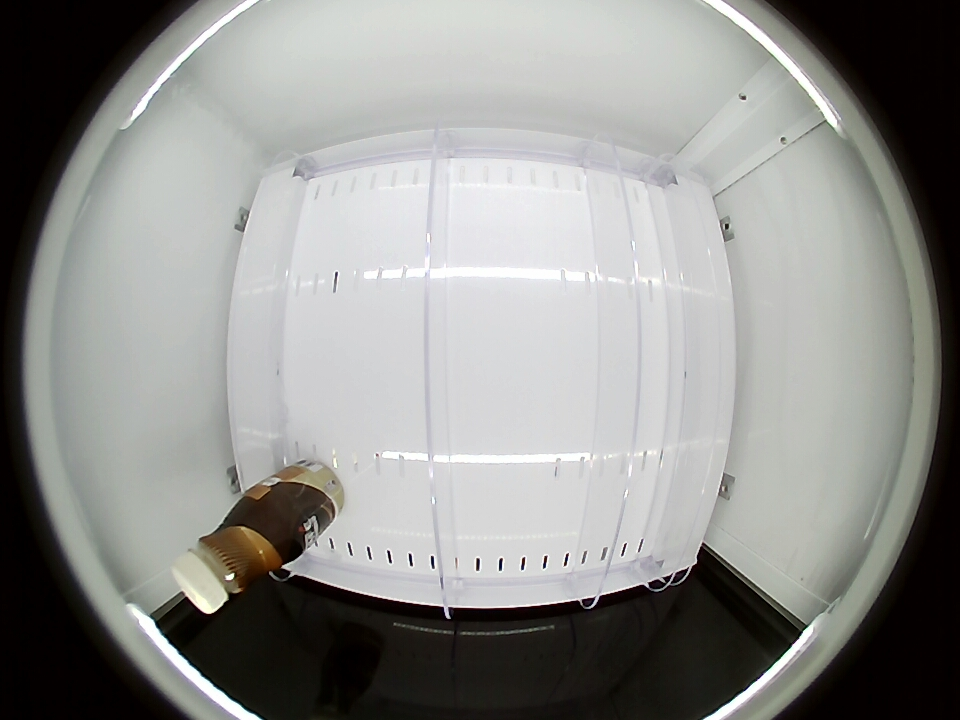kafei: (171, 500, 294, 614)
